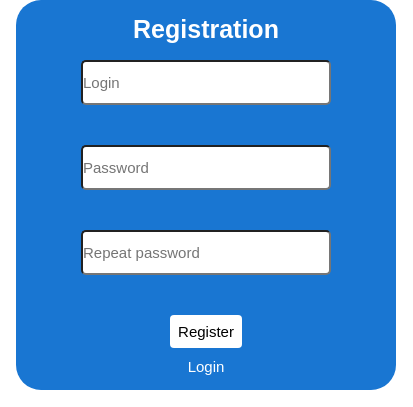
Test: registration component › Error element: The password must be at least 6 characters long
In the field with test id "registrationInput": (206, 82) [81, 60, 331, 105], type "Login23"
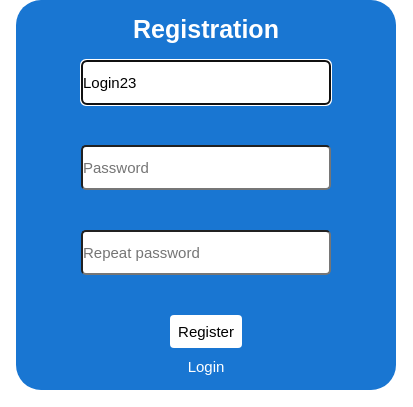
In the password field with test id "registrationPassword": (206, 168) [81, 145, 331, 190], type "Test"
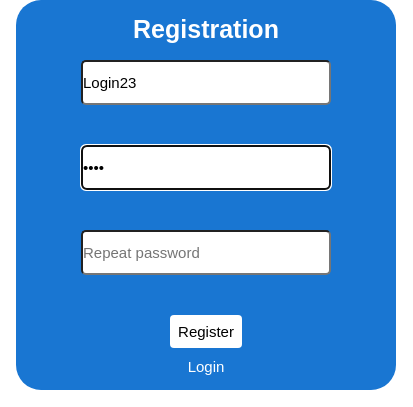
In the password field with test id "registrationRepeatedPassword": (206, 252) [81, 230, 331, 275], type "Test"
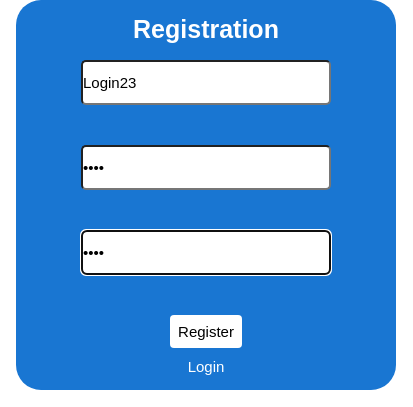
Click the button with test id "loginButton": (206, 332) [170, 315, 242, 348]
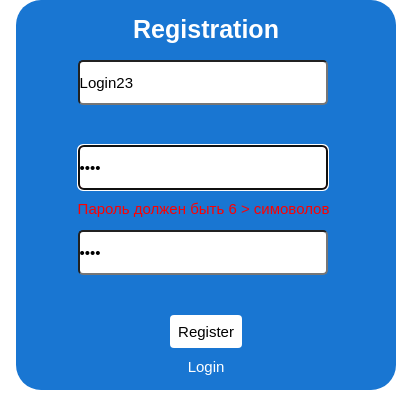
expect the text "Пароль должен быть 6 > симоволов" is shown: met, box [78, 200, 334, 217]
